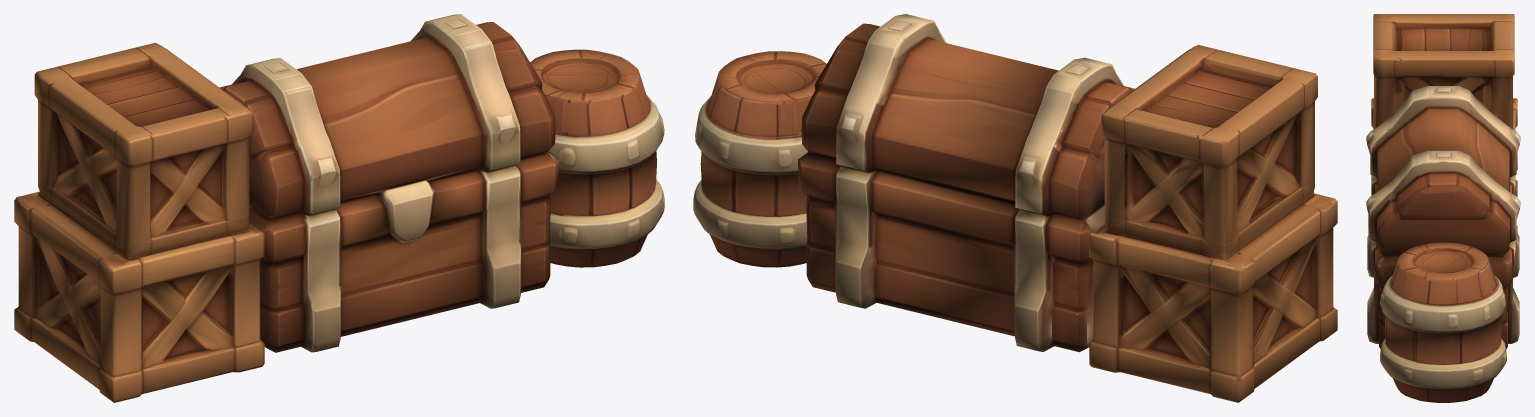
The model's file is storage_station.glb.
3 renders of one model, left to right at view 1: azimuth 30°, elevation 25°; view 2: azimuth 150°, elevation 25°; view 3: azimuth 270°, elevation 25°, orthographic. The views are drawn at different scales.
Parts seen in each view (by area): view 1: mesh_rep_0_ori_repair; view 2: mesh_rep_0_ori_repair; view 3: mesh_rep_0_ori_repair.
Part boxes in pixels (x1,y1,x2,y2): mesh_rep_0_ori_repair: (14,14,664,402); mesh_rep_0_ori_repair: (693,14,1337,402); mesh_rep_0_ori_repair: (1366,14,1520,402).
Size of the model in its own units: 4.8 by 2.01 by 1.47.
1 material, 1 textured.
